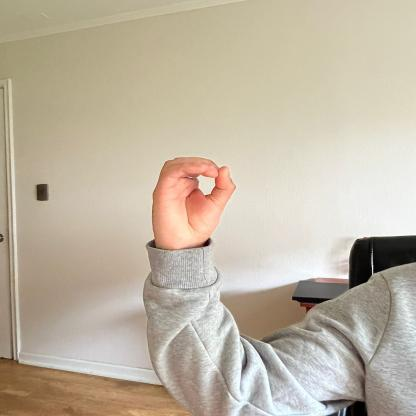O: (148, 154, 235, 248)
